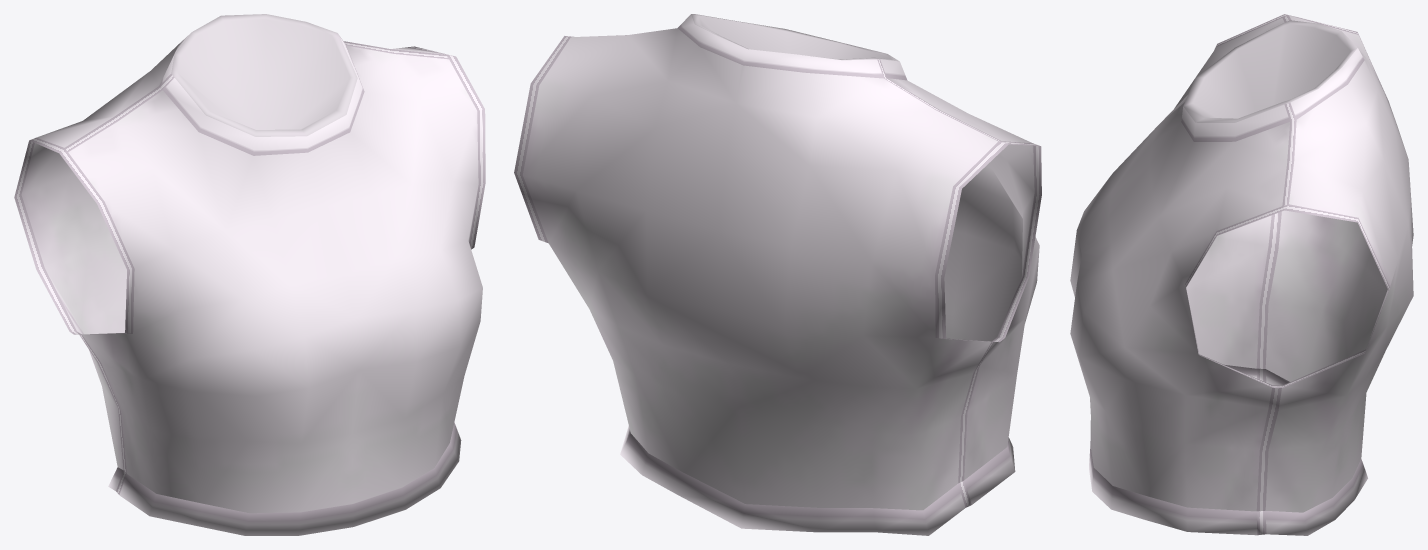
File: top.fbx
3 views of the same model, side by side, from view 1: azimuth 30°, elevation 25°; view 2: azimuth 150°, elevation 25°; view 3: azimuth 270°, elevation 25° (orthographic). The views are drawn at different scales.
Parts seen in each view (by area): view 1: node_id72; view 2: node_id72; view 3: node_id72.
Boxes of the visible parts, left/top/right/bottom form: node_id72: left=14, top=14, right=485, bottom=535; node_id72: left=514, top=14, right=1041, bottom=535; node_id72: left=1070, top=14, right=1413, bottom=535.
Size of the model in its own units: 0.501 by 0.512 by 0.37.
Materials: 1 (1 with a texture image).
